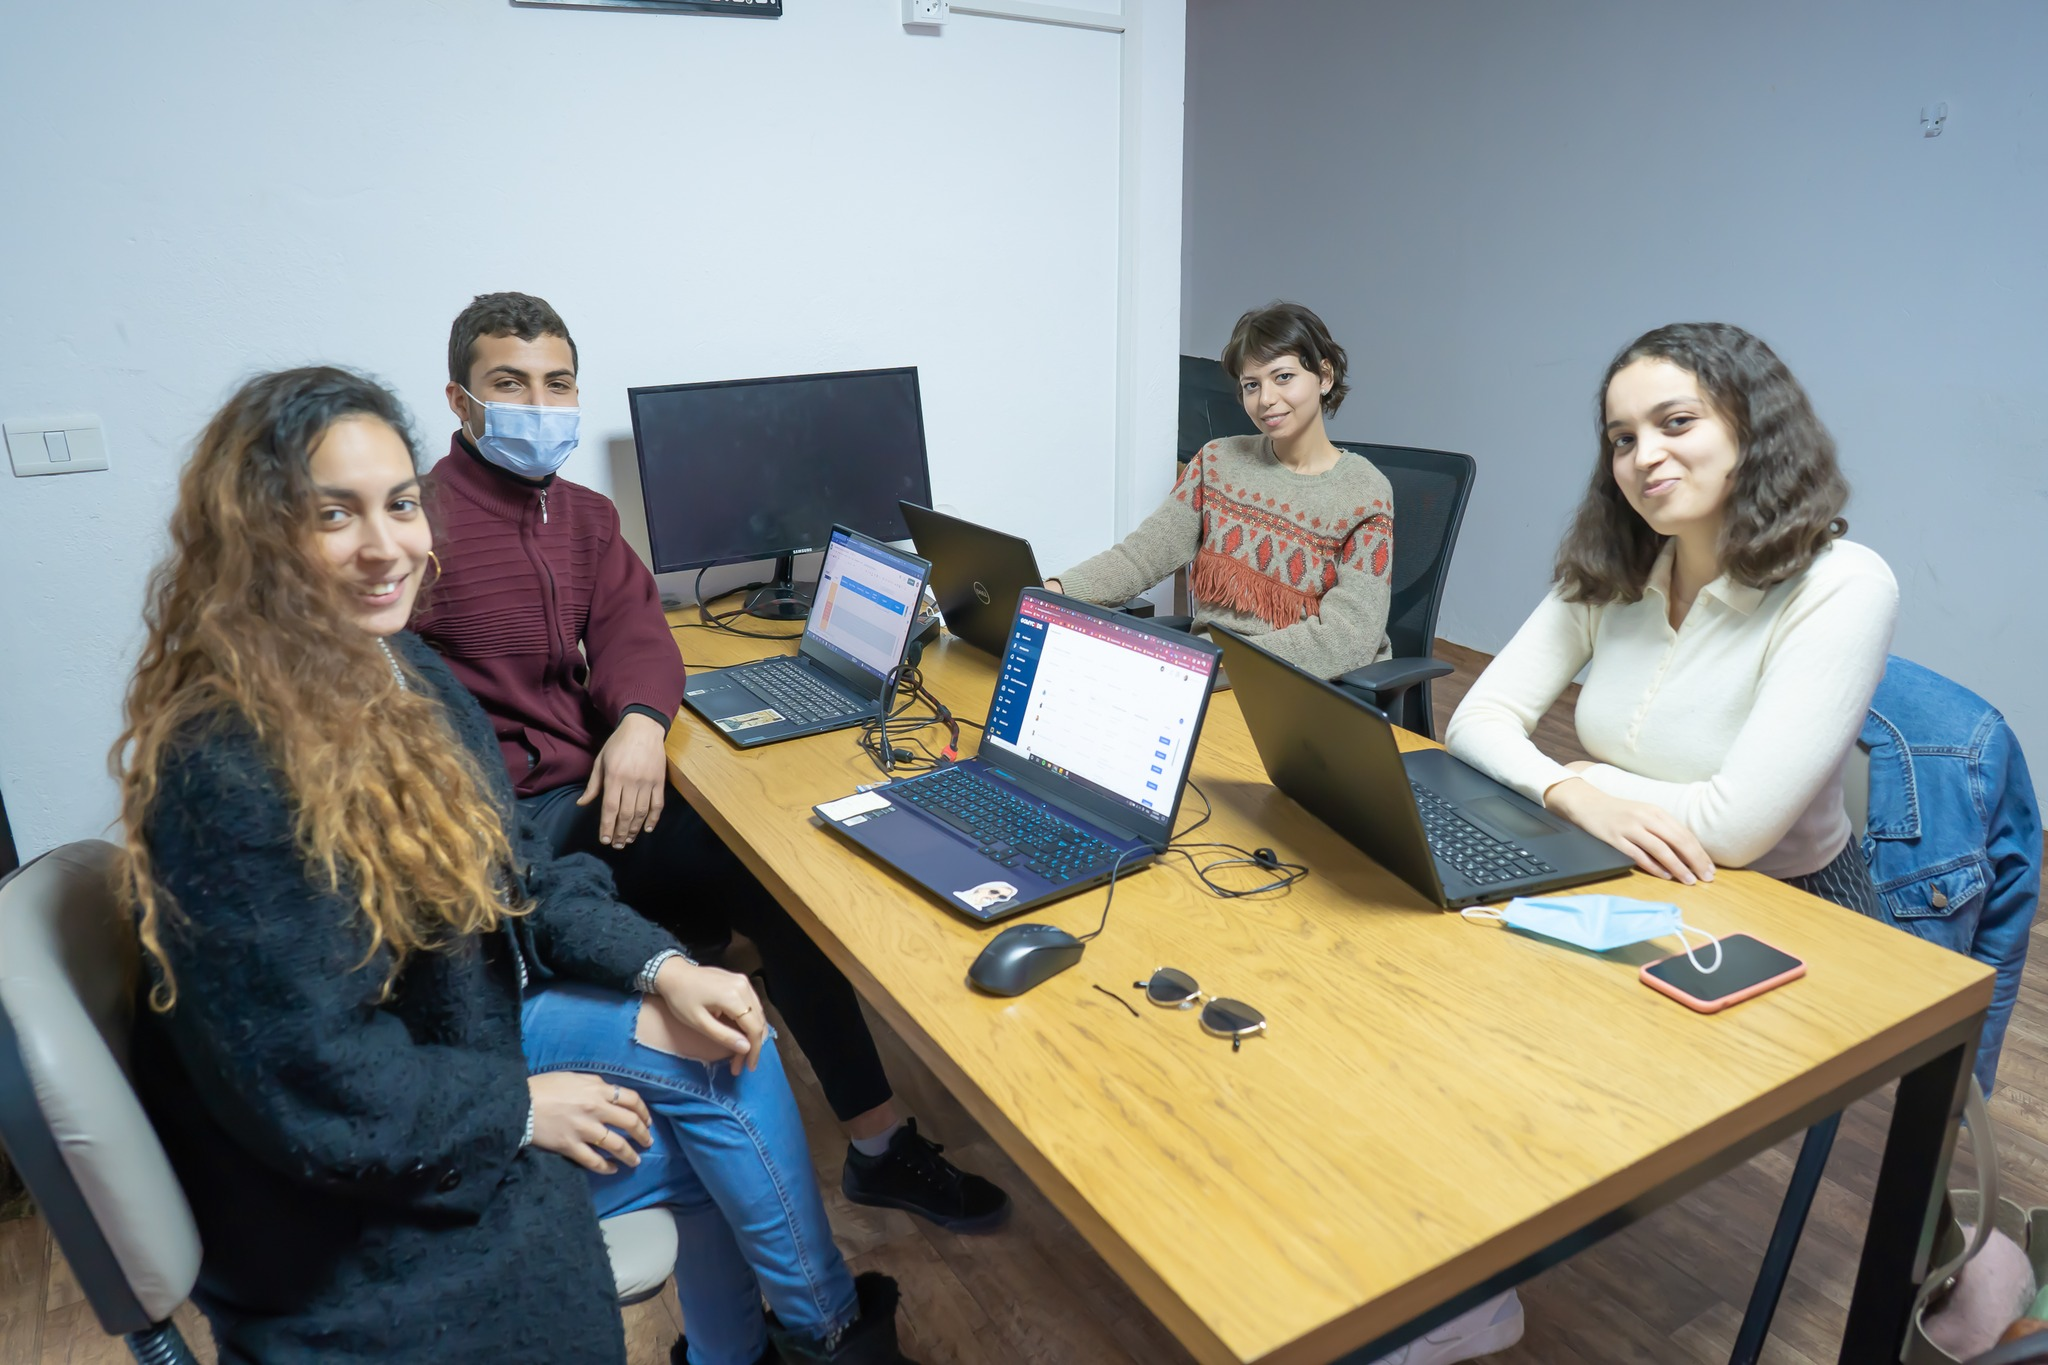without_mask: (289, 467, 431, 623), (1600, 398, 1721, 516), (1240, 366, 1308, 430)
